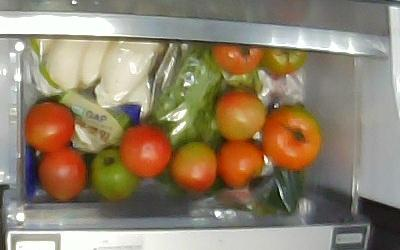tomato: (262, 105, 320, 169), (120, 125, 172, 176), (213, 91, 264, 141), (37, 148, 86, 200), (91, 148, 137, 200), (27, 101, 73, 151), (216, 142, 263, 189), (172, 143, 216, 191), (211, 43, 263, 74), (261, 47, 306, 77)
